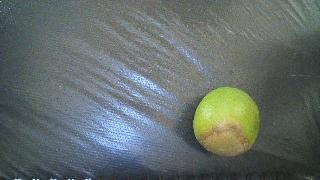DESECHO: (193, 87, 260, 157)
